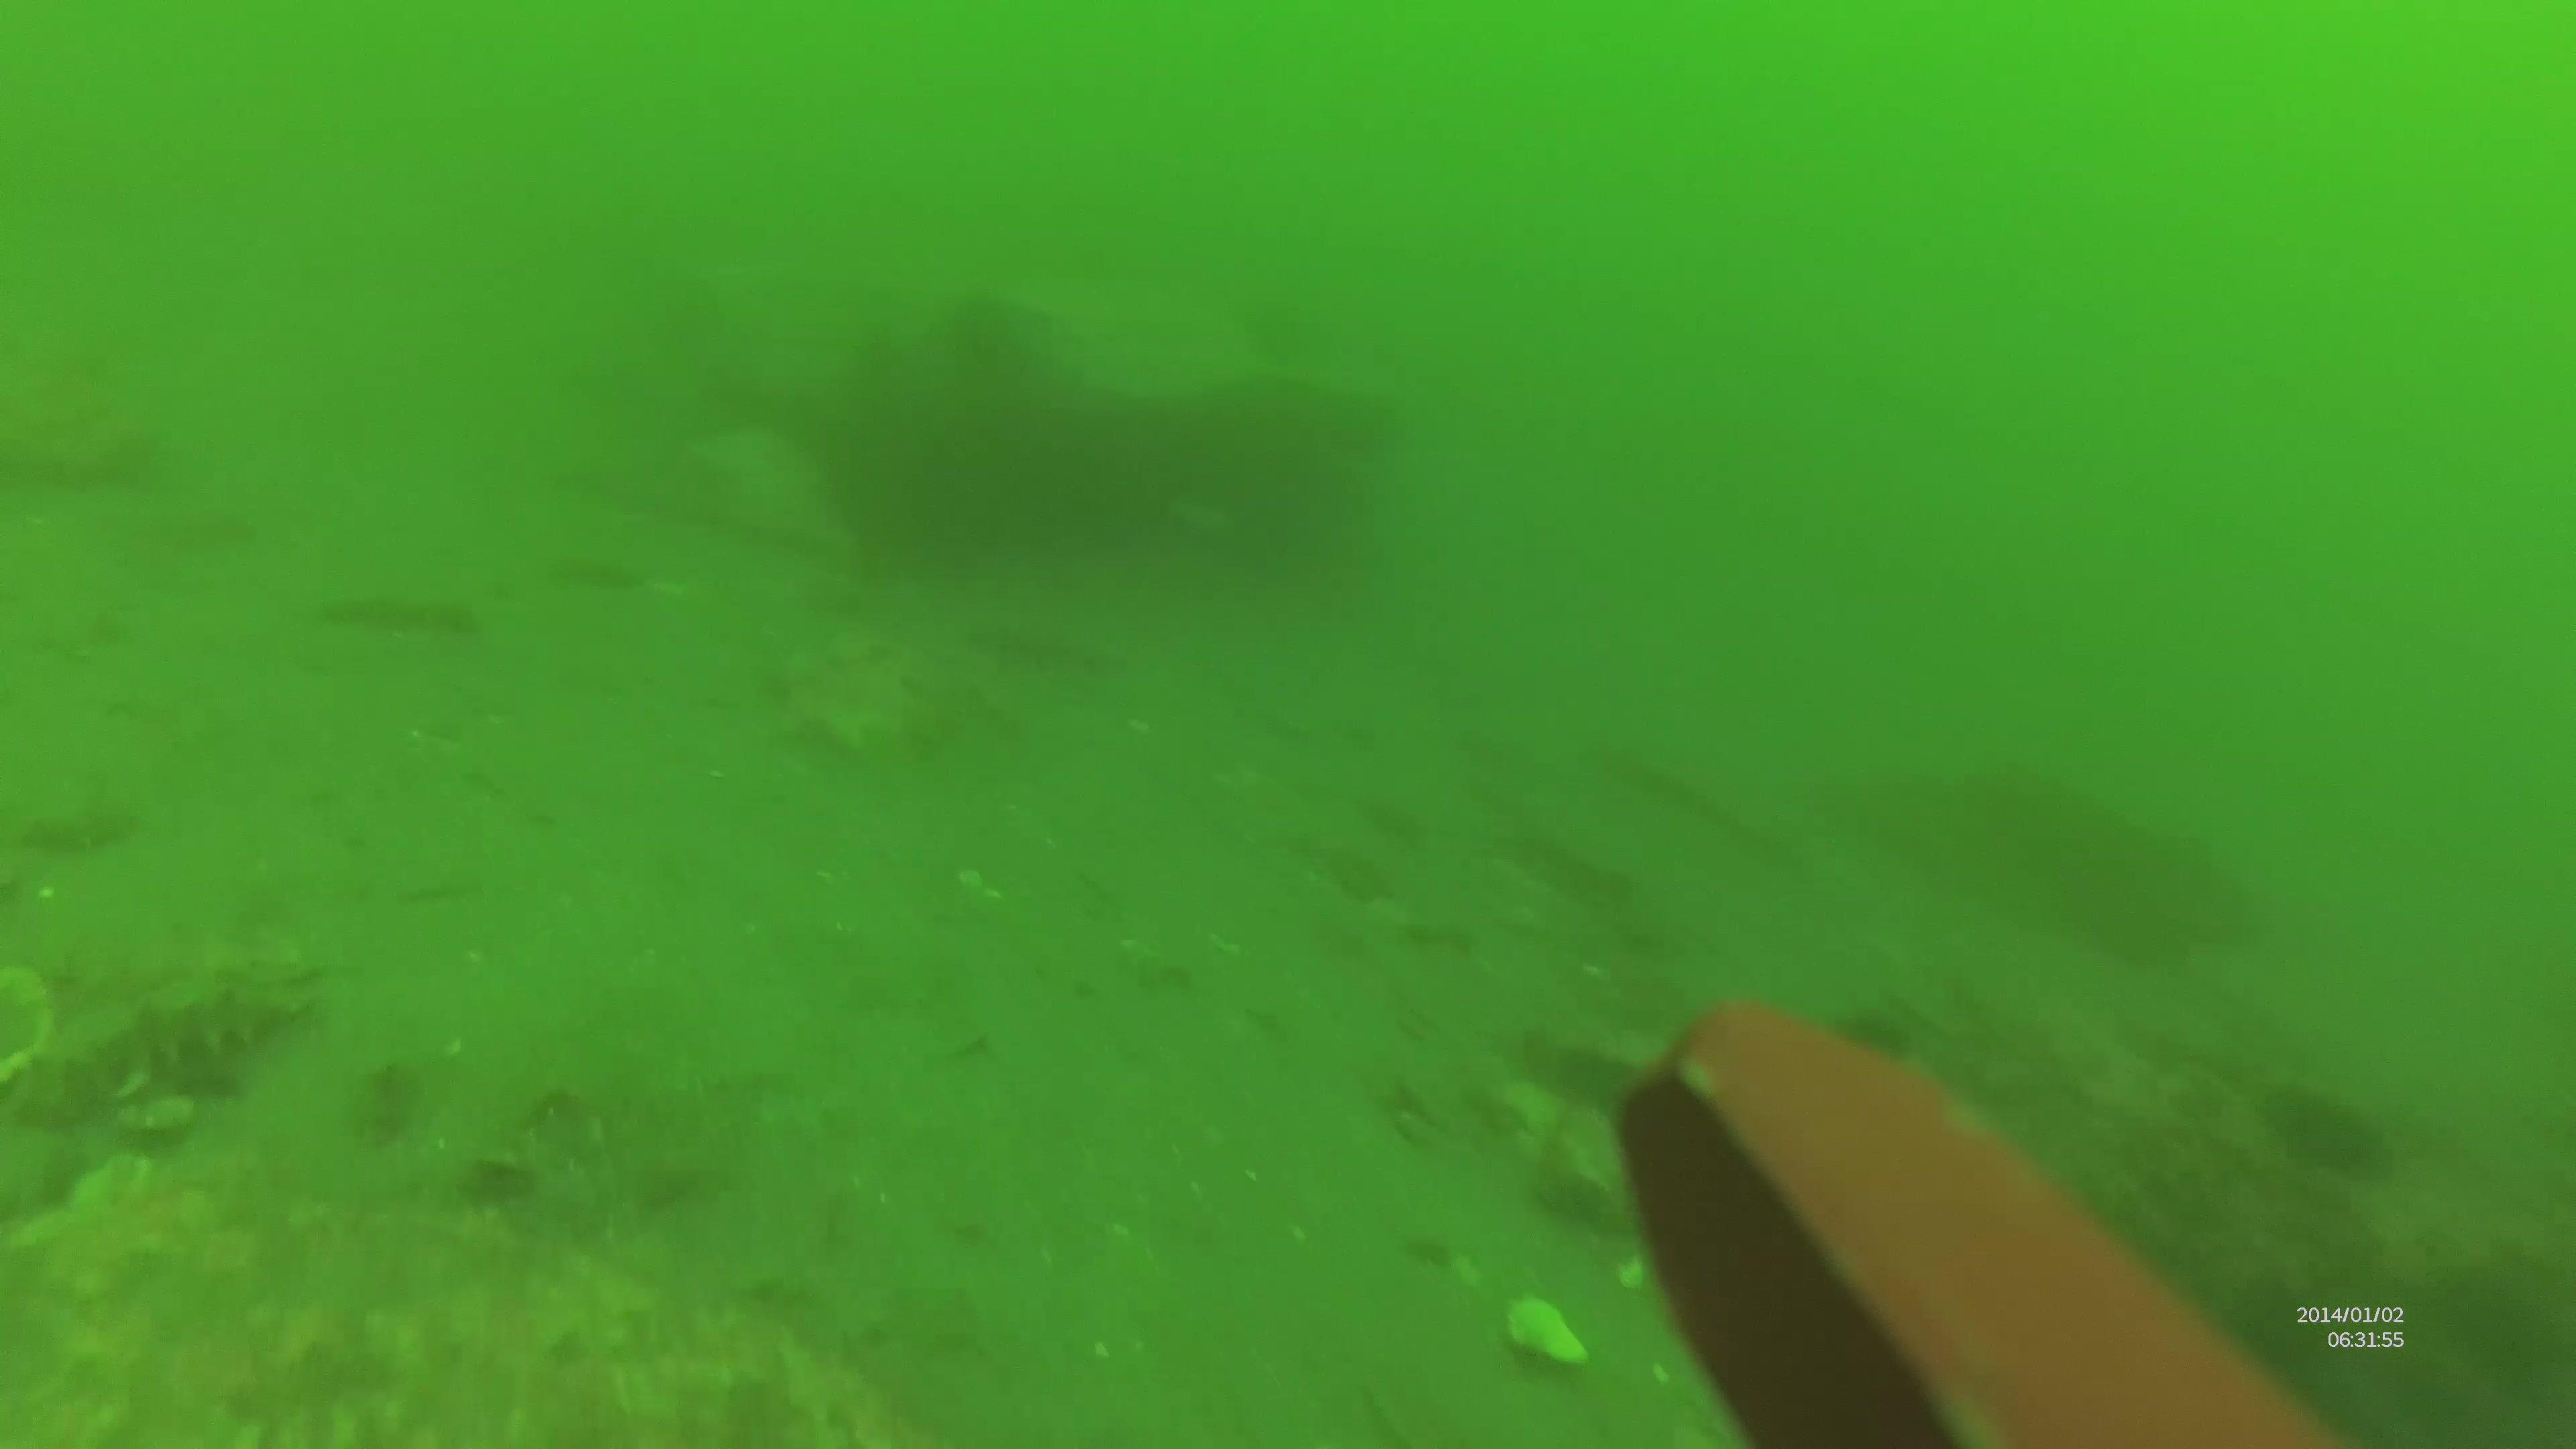echinus: (2273, 1079, 2404, 1191)
holothurian: (11, 962, 313, 1120)
